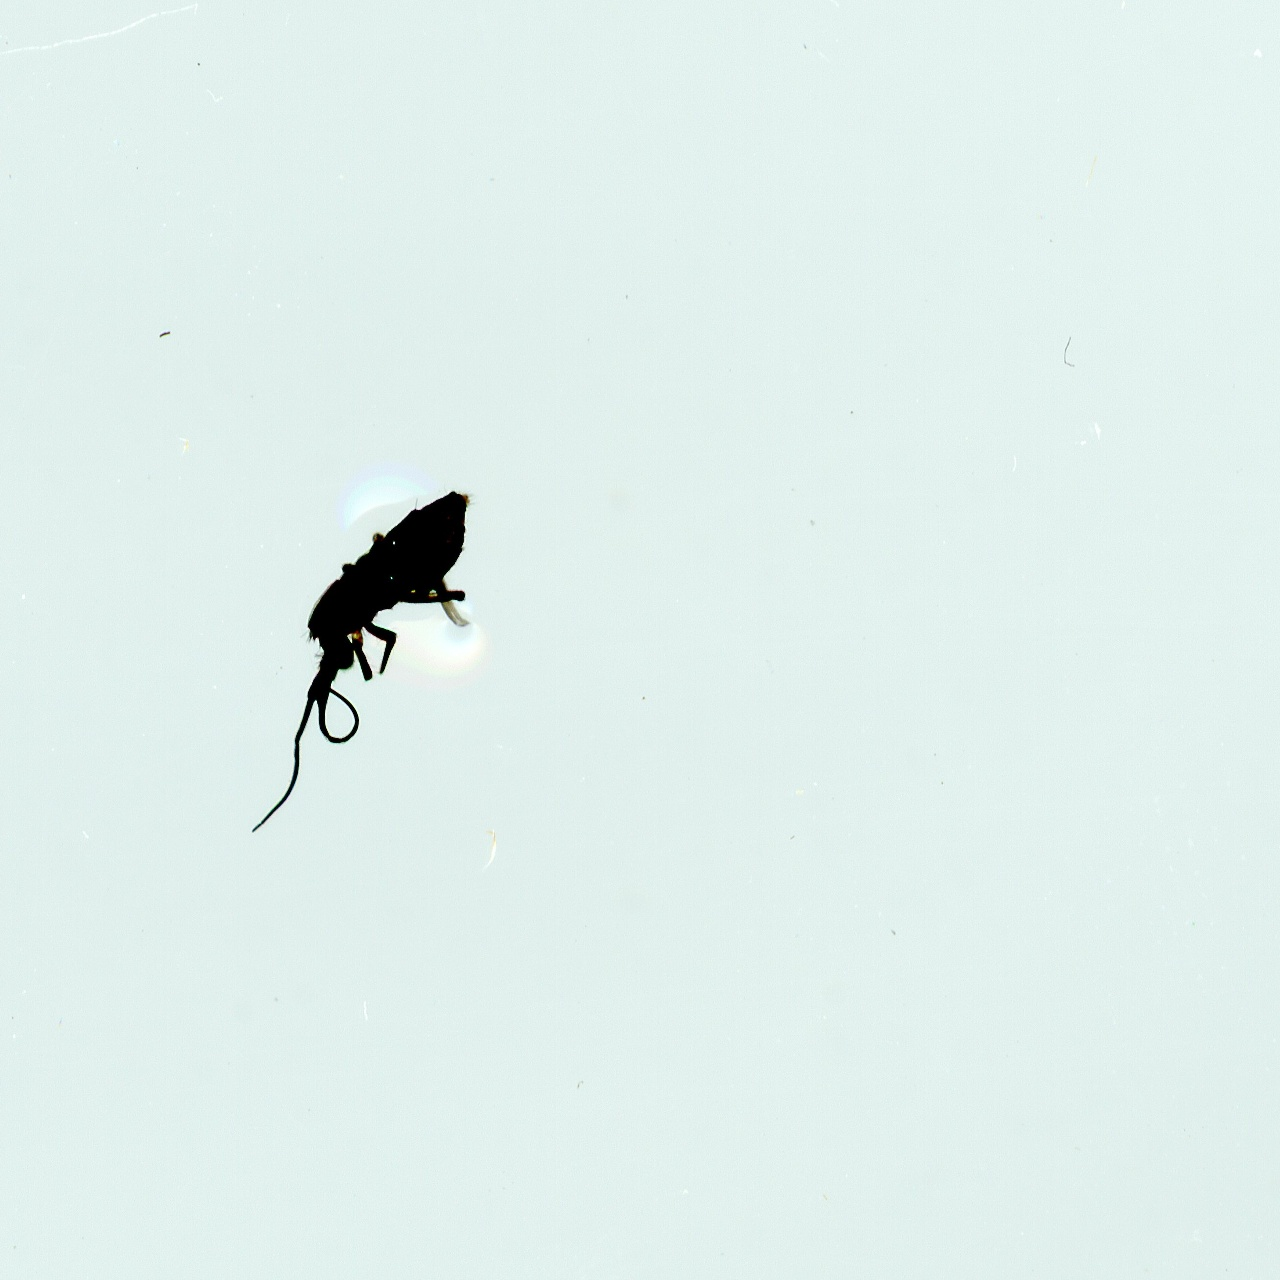arthropod: (200, 433, 538, 897)
